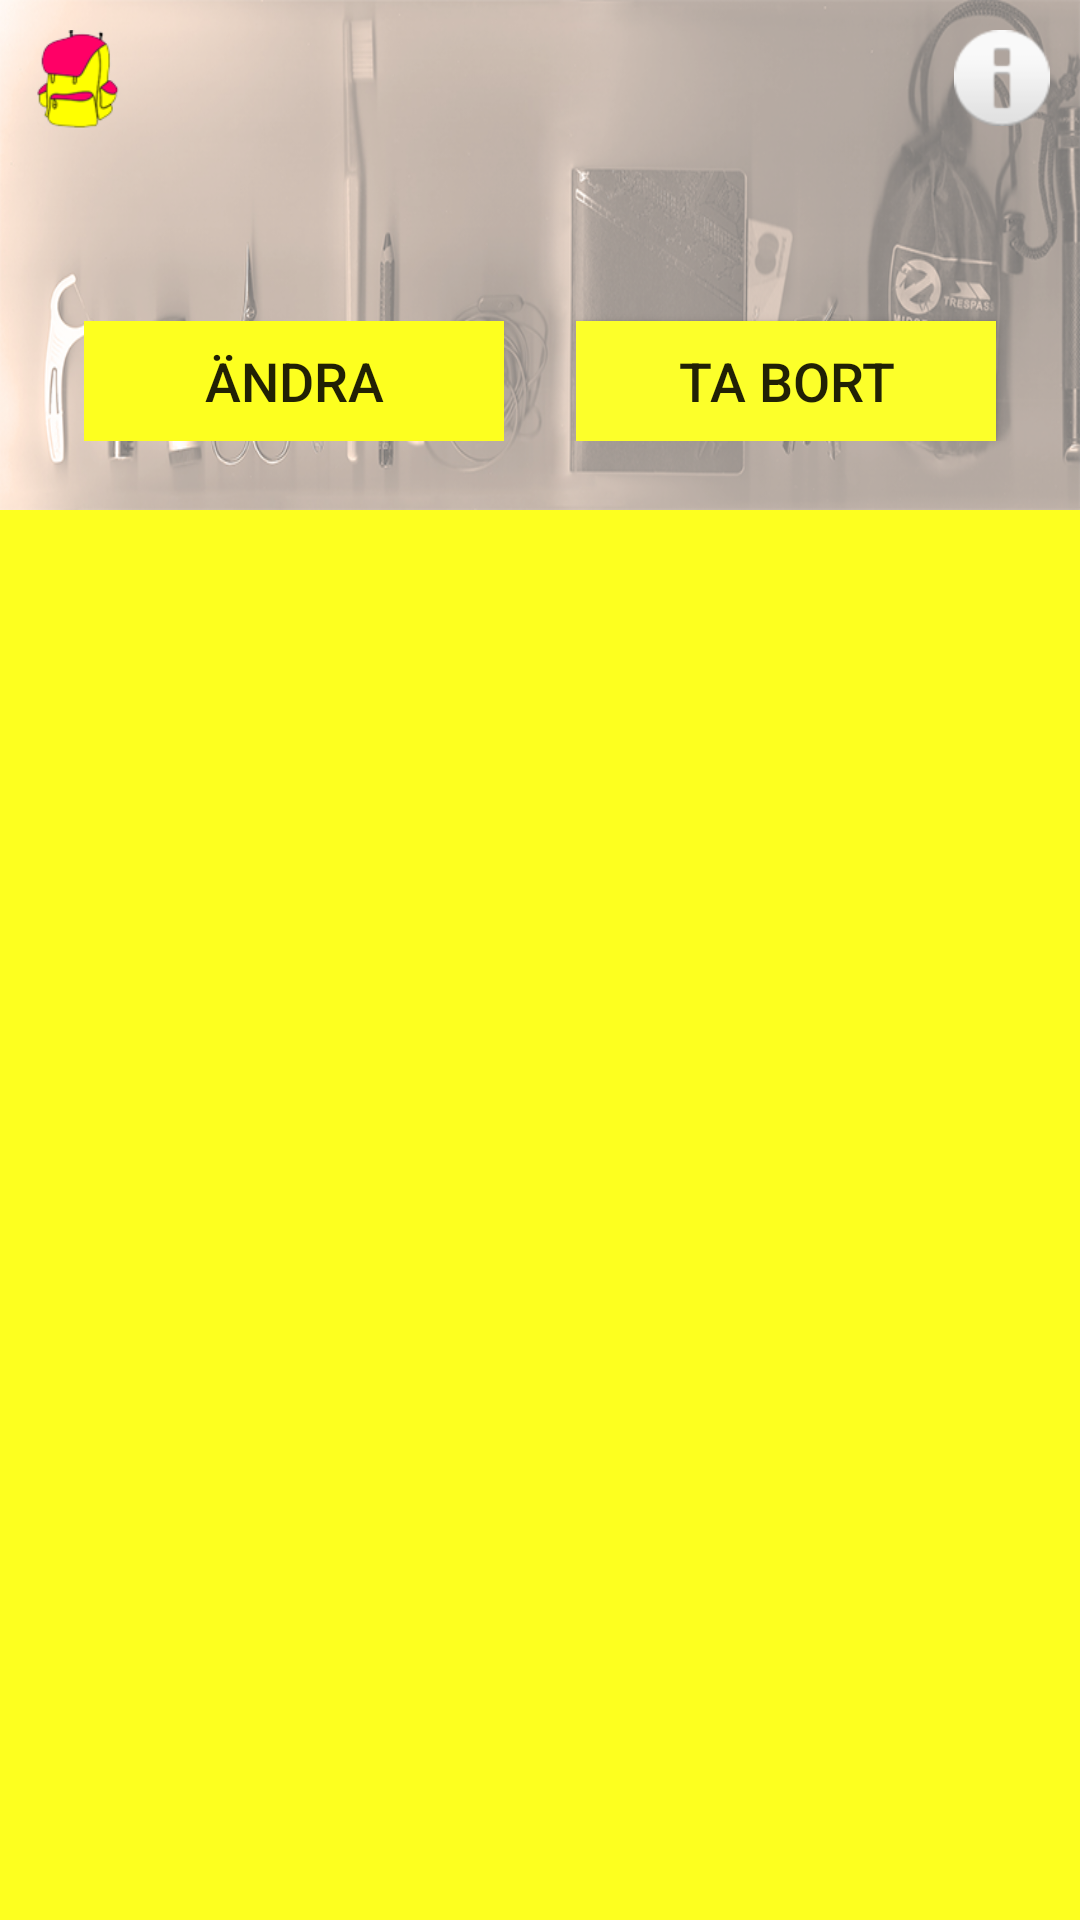

Screen size 1080 × 1920. Icon name, then its box in pixels as (x1, y1, x2, y2):
info: (954, 30, 1050, 126)
